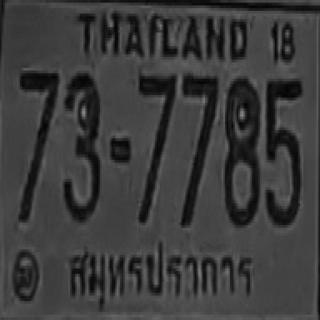N03: (61, 70, 99, 220)
N05: (265, 76, 302, 225)
N07: (18, 68, 58, 220), (137, 73, 175, 222), (181, 73, 218, 225), (182, 73, 218, 179)
N08: (223, 76, 258, 225)
P57: (64, 240, 258, 312)
